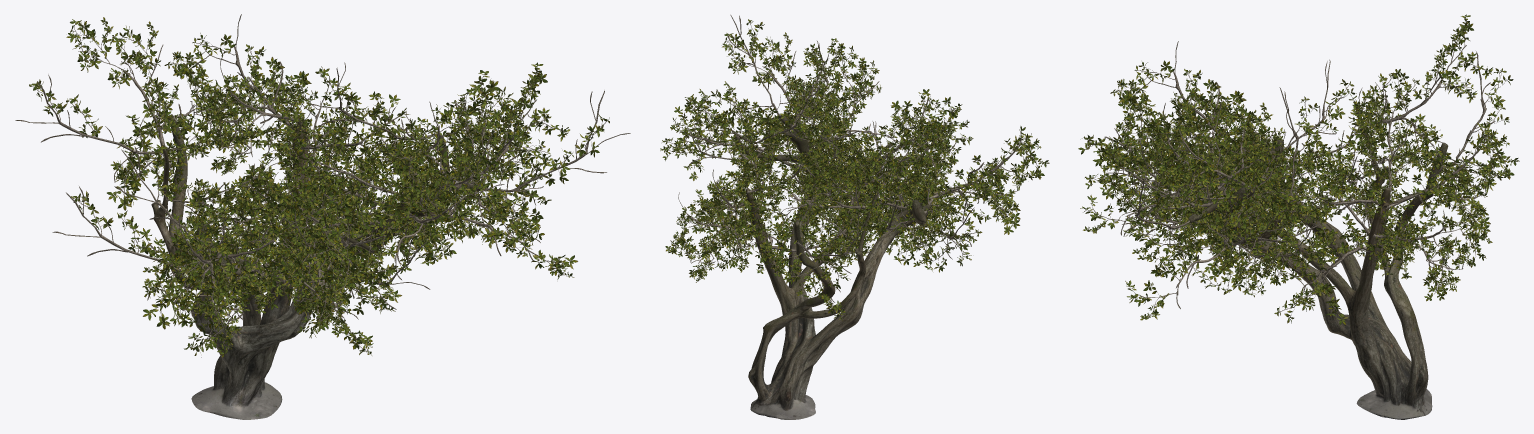
File: island_tree_02.glb
The picture shows the model from 3 angles, left to right: view 1: azimuth 30°, elevation 25°; view 2: azimuth 150°, elevation 25°; view 3: azimuth 270°, elevation 25°; orthographic projection. The views are drawn at different scales.
Visible parts, largest first — view 1: island_tree_02_LOD0; view 2: island_tree_02_LOD0; view 3: island_tree_02_LOD0.
Boxes of the visible parts, x1=… form: island_tree_02_LOD0: x1=15, y1=14, x2=630, y2=419; island_tree_02_LOD0: x1=660, y1=14, x2=1049, y2=419; island_tree_02_LOD0: x1=1078, y1=14, x2=1519, y2=419.
Bounding box in the file's own units: 4.21 × 3.41 × 4.07.
3 materials, 3 textured.
